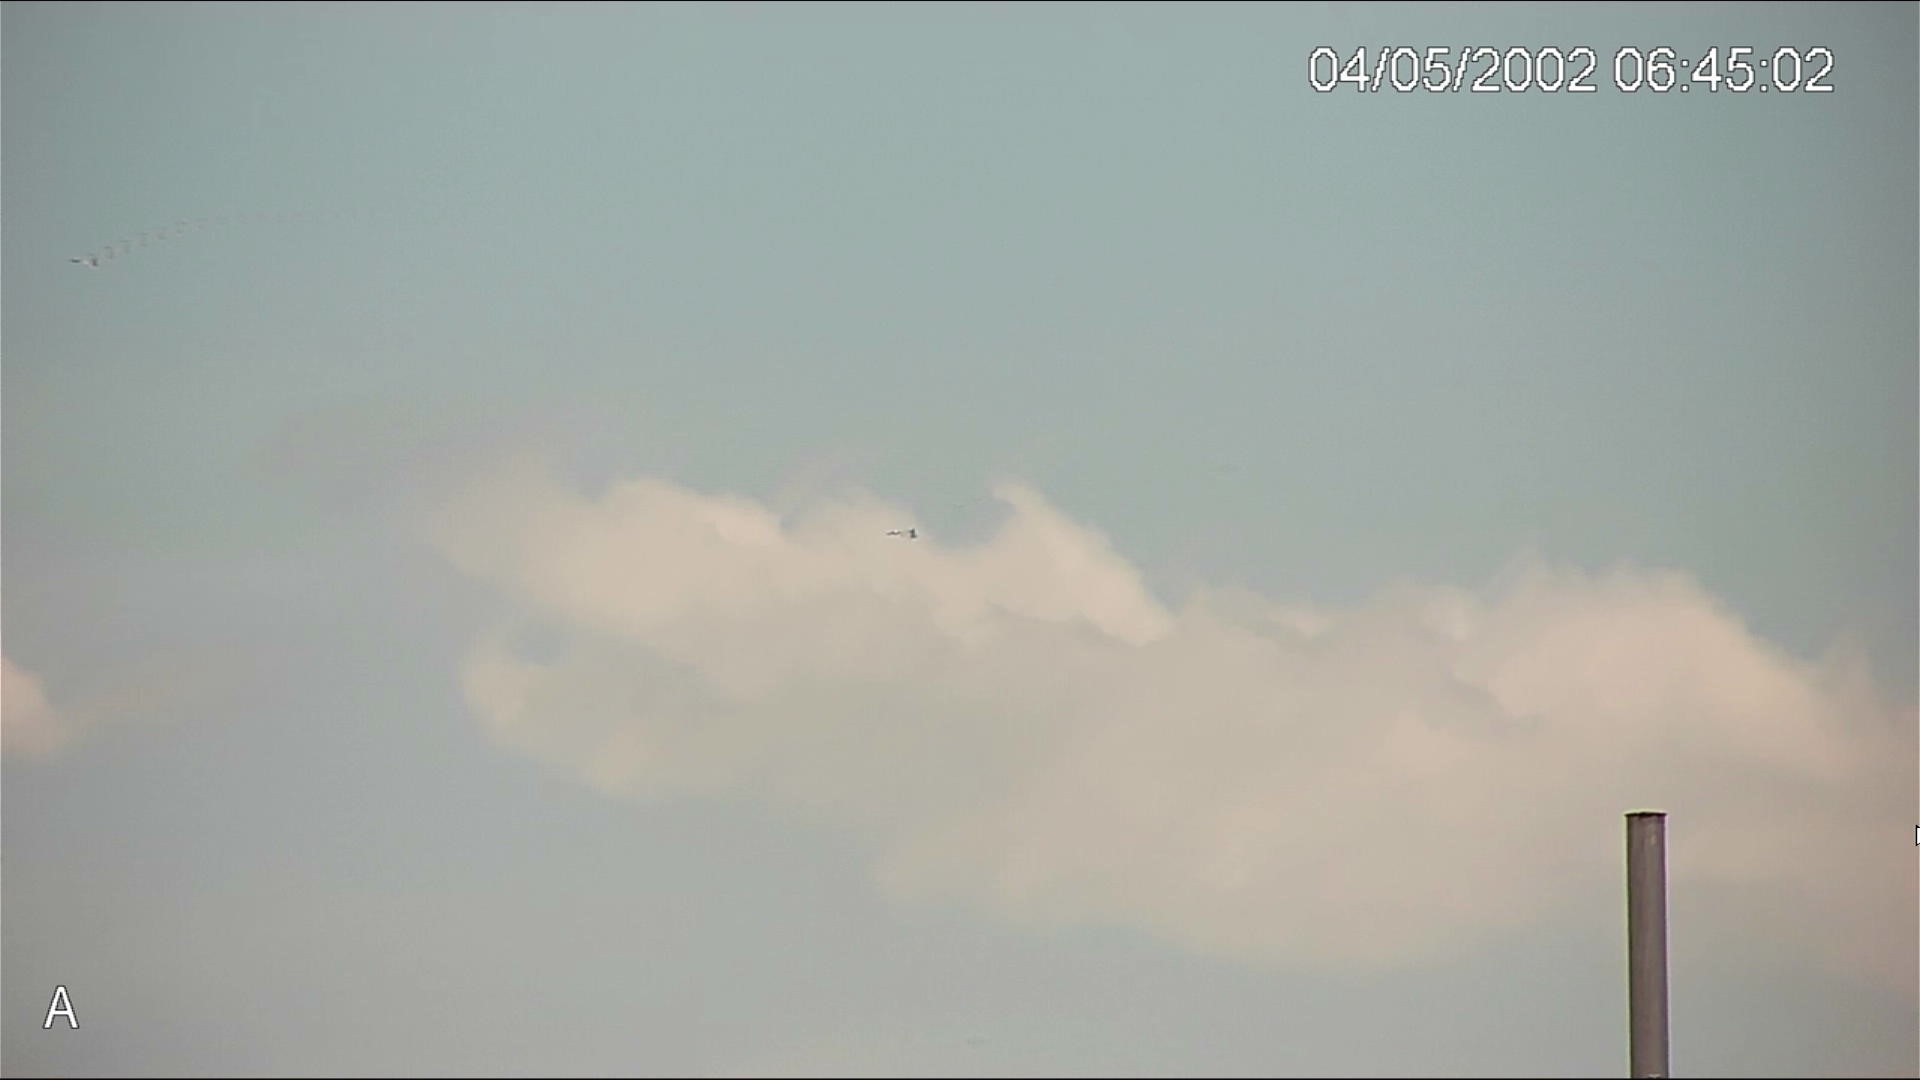SU_30: (882, 524, 920, 542)
